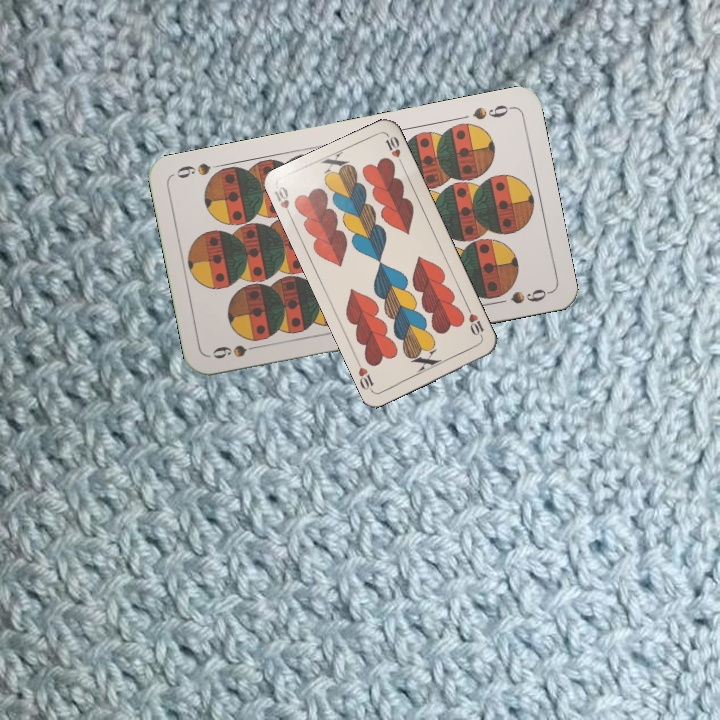H10: (270, 182, 295, 222), (463, 303, 487, 342)
S9: (208, 340, 267, 362), (468, 100, 516, 123)
